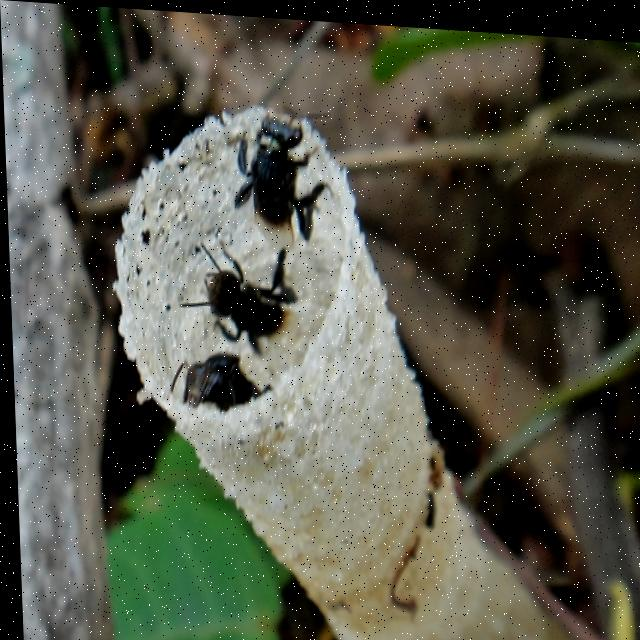Meliponula: (233, 88, 322, 242)
